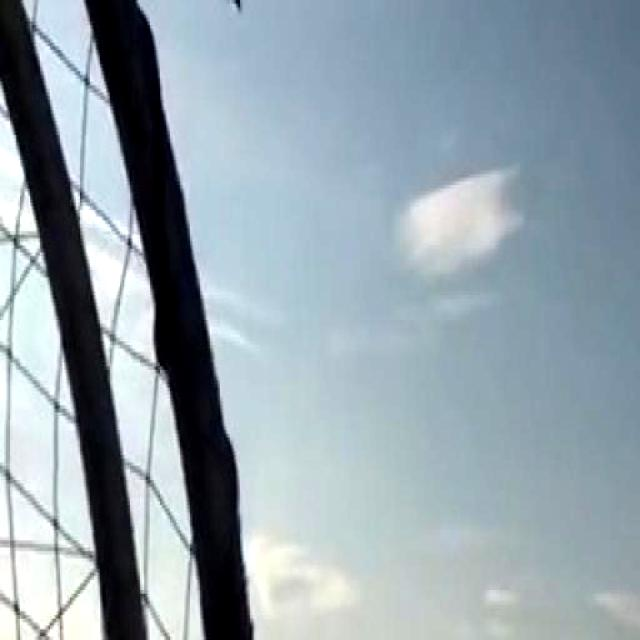airplane: (209, 0, 245, 18)
